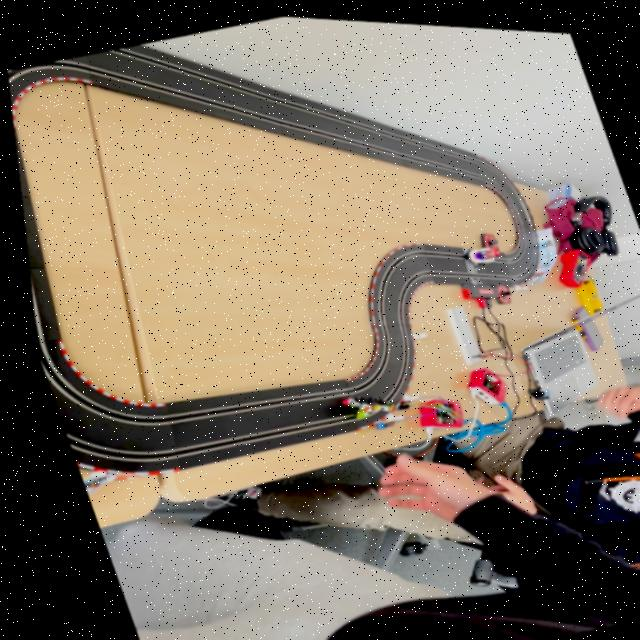mario: (458, 235, 500, 263)
yoshi: (329, 380, 391, 420)
